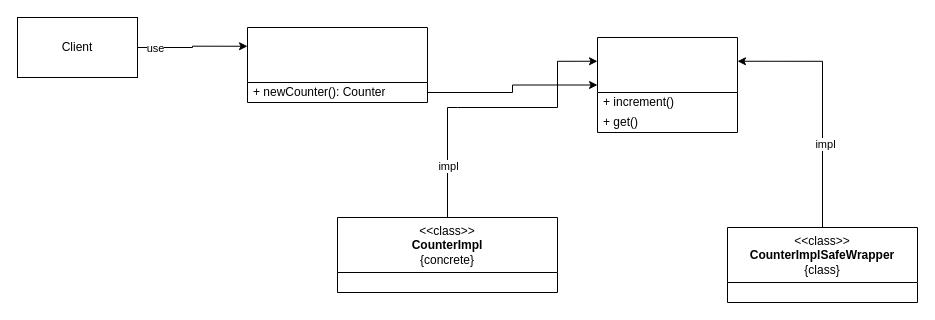
Image size: 935x320. Some labels were removed from this diagram. The box of each missing label's shape, as (x1, y1, x2, y2) in pixels:
<<class>> CounterFactory {concrete}: (246, 26, 428, 102)
<<interface>> Counter {abstract}: (596, 36, 738, 132)
